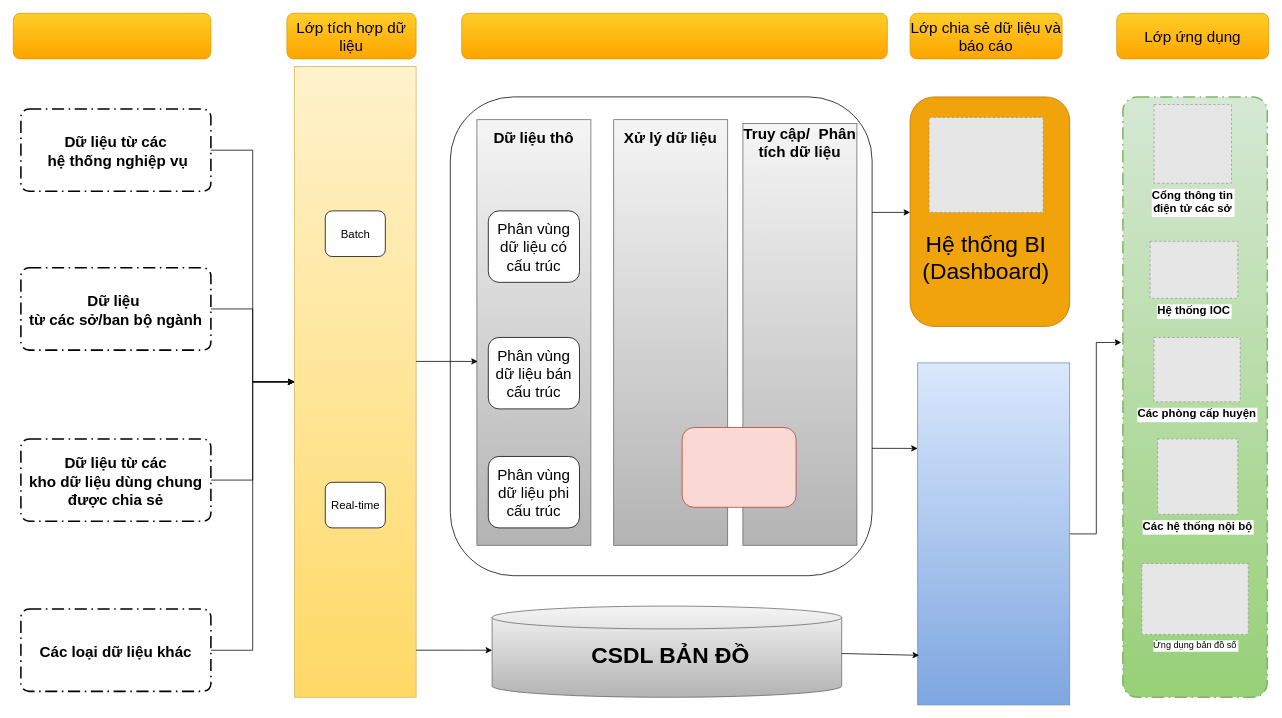
Some shapes in this 1282 by 718 pixel diagram are drawn without their labels. Grey dashed boxes stand in for pictures. Here are the shapes that lost their labels. From the top down, the centre of each, then its label:
At point (112, 36): "Lớp nguồn dữ liệu".
At point (674, 36): "Lớp lưu trũ và xử lý dữ liệu".
At point (738, 467): "Mô hình dữ liêu (Data Model)".
At point (993, 533): "Nền tảng chia sẻ dữ liệu".
